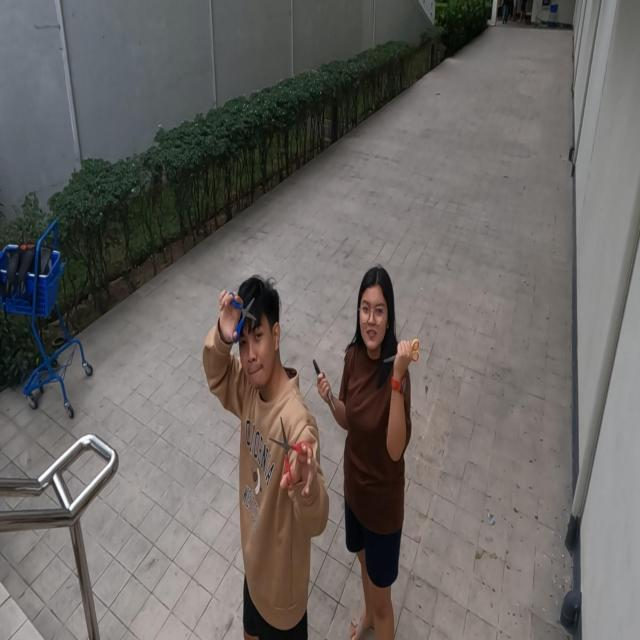scissor: (268, 416, 314, 492), (229, 291, 257, 344), (313, 358, 337, 412), (383, 336, 420, 364)
